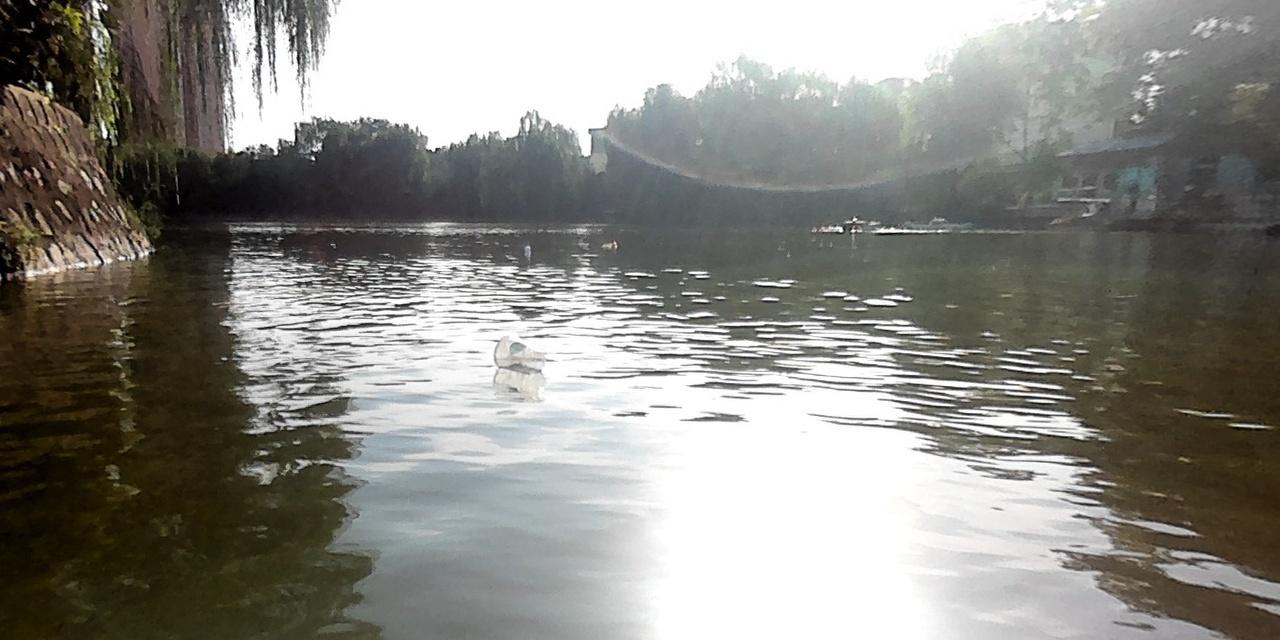bottle: (489, 334, 546, 373)
